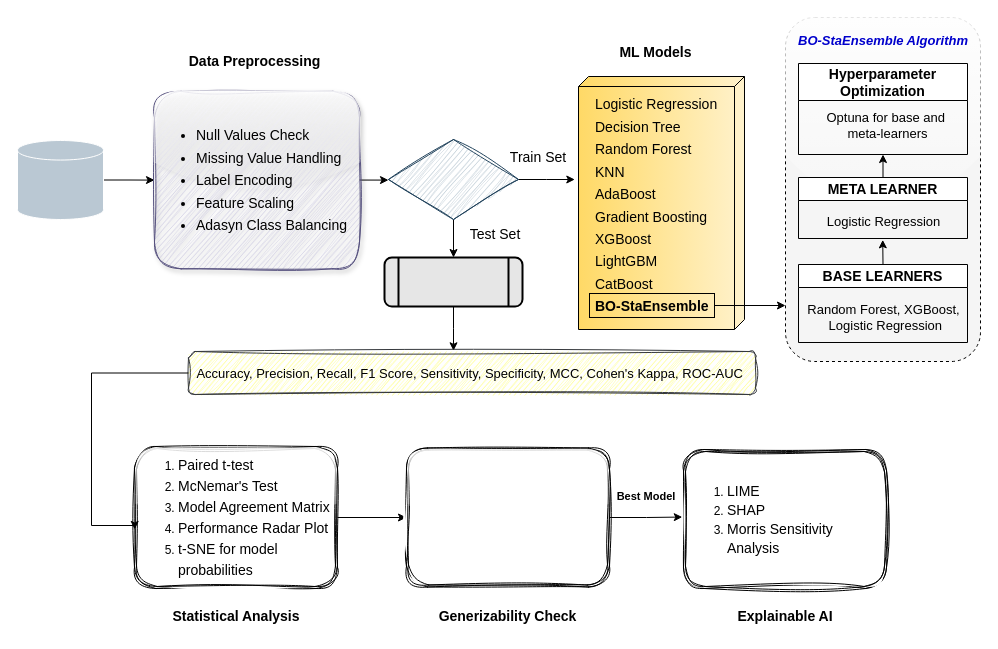
Some shapes in this 998 by 649 pixel diagram are drawn without their labels. Here are the shapes that lost their labels. From the top down, the centre of each, then its label:
[60,180]: CRD Dataset
[453,179]: Train Test Split
[453,281]: Model Evaluation
[508,517]: Econometric Analysis Dataset (EA) Default of Credit Card Clients (DCC)
